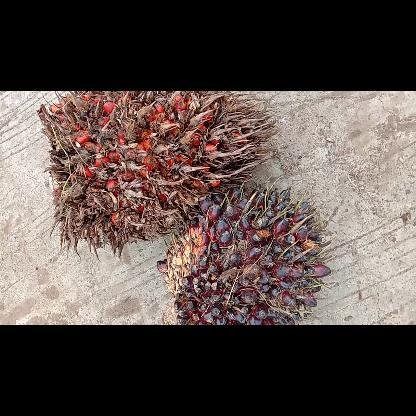TBS mentah: (157, 178, 334, 324)
Terlalu masak: (37, 91, 279, 261)
